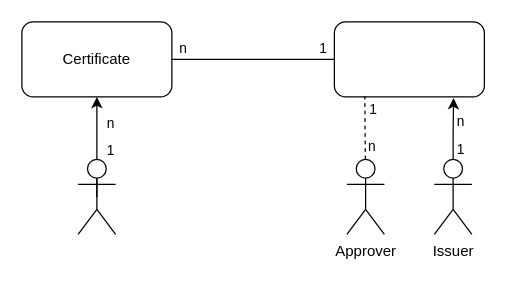
Some shapes in this 506 by 283 pixel diagram are drawn without their labels. Here are the shapes that lost their labels. From the top down, the centre of each, then its label:
At [408,59]: "Certification".
At [96,196]: "Recipient".
